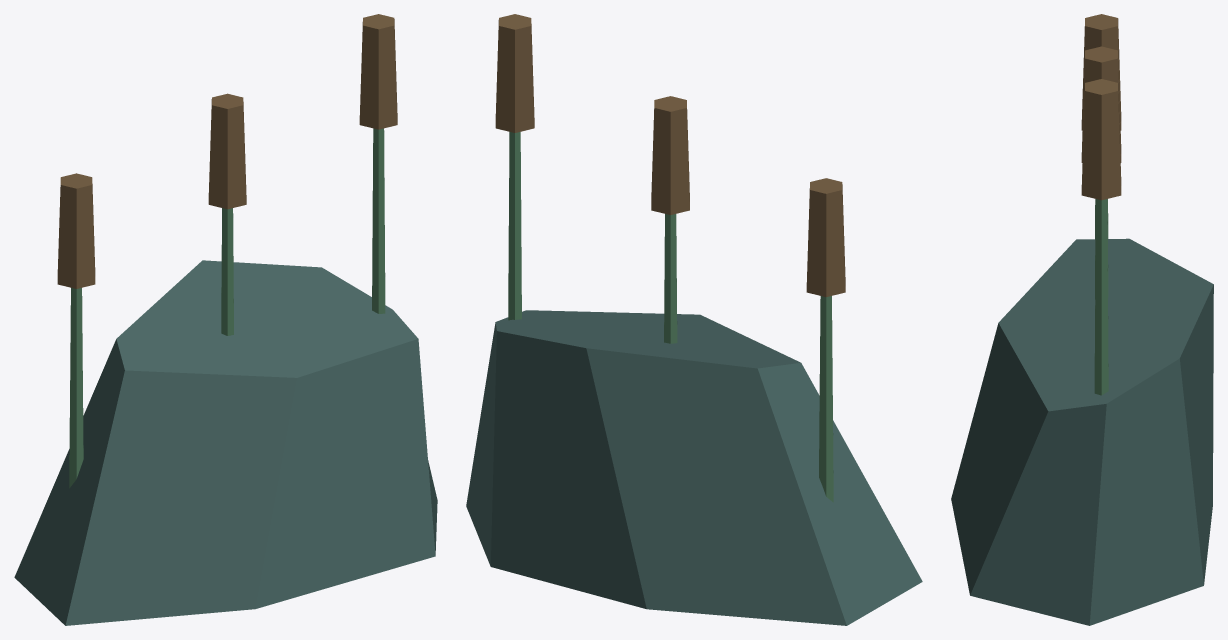
The model's file is map-boundaries-v5__lake_08.glb.
3 views of the same model, side by side, from view 1: azimuth 30°, elevation 25°; view 2: azimuth 150°, elevation 25°; view 3: azimuth 270°, elevation 25° (orthographic). The views are drawn at different scales.
Visible parts, largest first — view 1: lake_08; view 2: lake_08; view 3: lake_08.
Part boxes in pixels (x1=…): lake_08: x1=14, y1=14, x2=437, y2=625; lake_08: x1=466, y1=14, x2=922, y2=625; lake_08: x1=951, y1=14, x2=1213, y2=625.
Bounding box in the file's own units: 1.3 × 1.48 × 0.6886.
